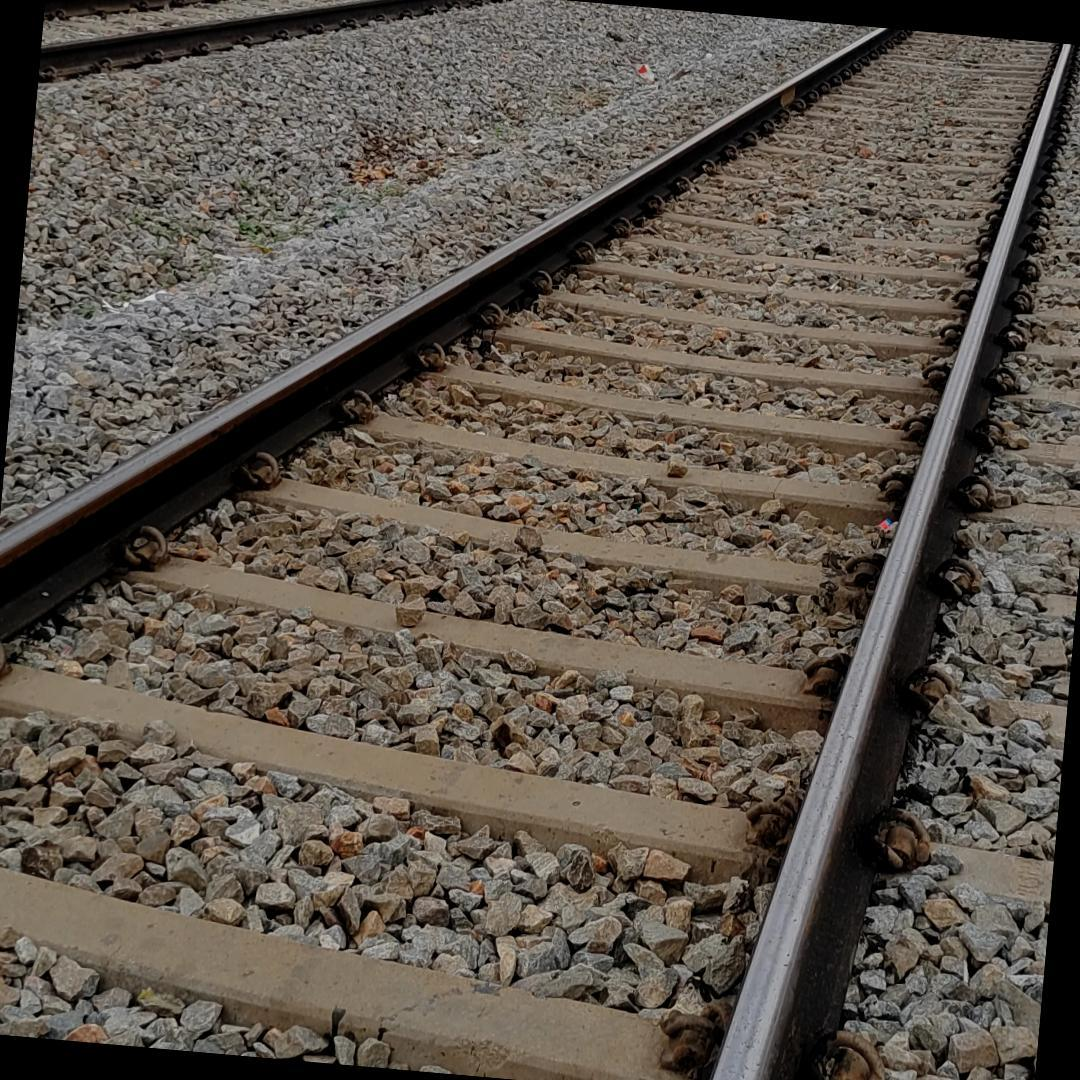track: (0, 40, 1080, 1080)
